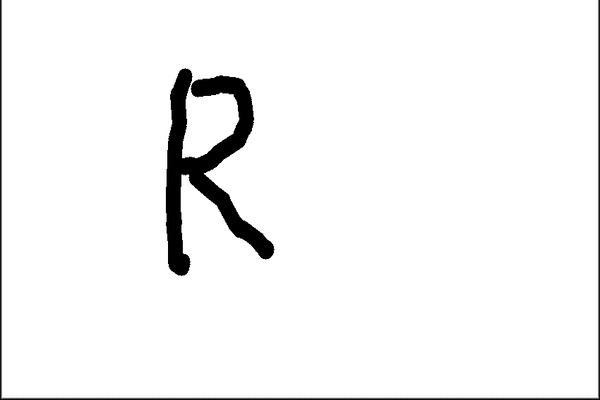R: (138, 54, 287, 273)
